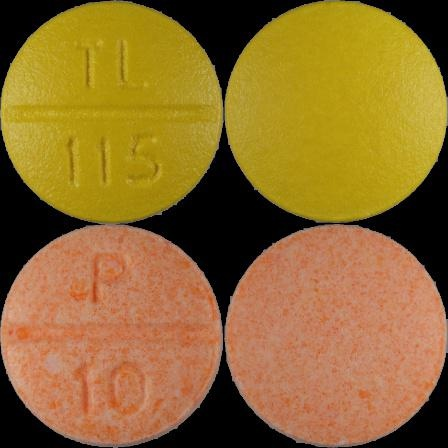10544-281: (0, 0, 224, 224)
